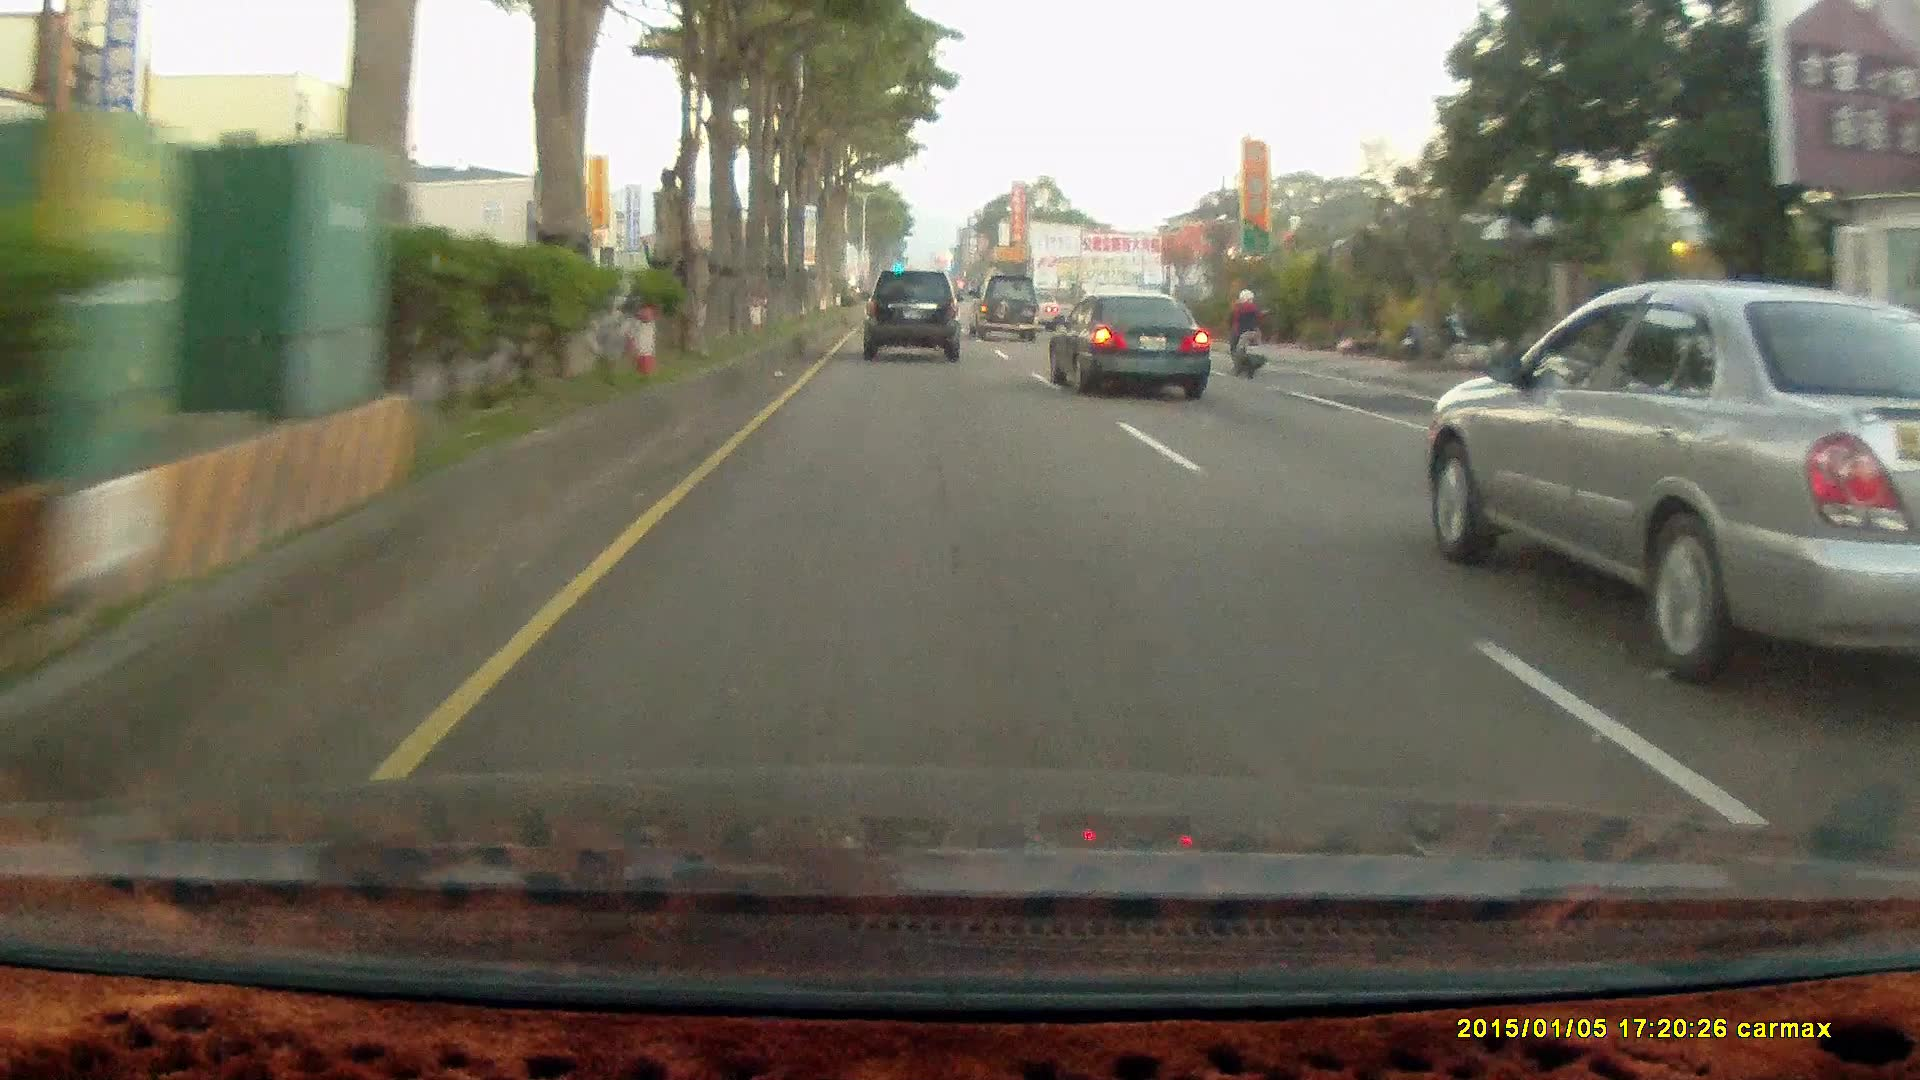rider: (1215, 280, 1275, 386), (1219, 284, 1268, 378)
vehicle: (1424, 294, 1917, 700), (1049, 296, 1216, 407), (1046, 291, 1210, 399), (862, 265, 966, 365), (858, 271, 958, 364), (968, 278, 1044, 346), (967, 275, 1040, 342)
